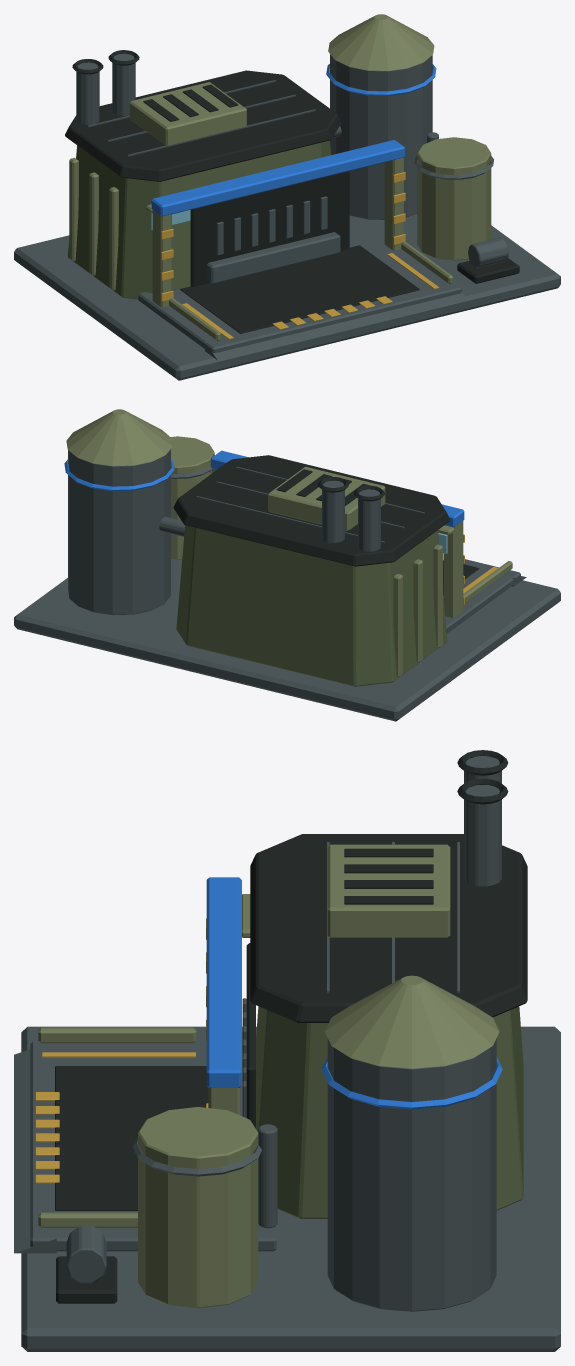
The model's file is h_refinery.glb.
3 renders of one model, top to bottom at view 1: azimuth 30°, elevation 25°; view 2: azimuth 150°, elevation 25°; view 3: azimuth 270°, elevation 25°, orthographic. The views are drawn at different scales.
Visible parts, largest first — view 1: Refinery; view 2: Refinery; view 3: Refinery.
Part boxes in pixels (x1,y1,x2,y2): Refinery: (14,14,560,380); Refinery: (14,409,560,721); Refinery: (14,750,560,1351).
Bounding box in the file's own units: 7.8 × 3.91 × 5.88.
